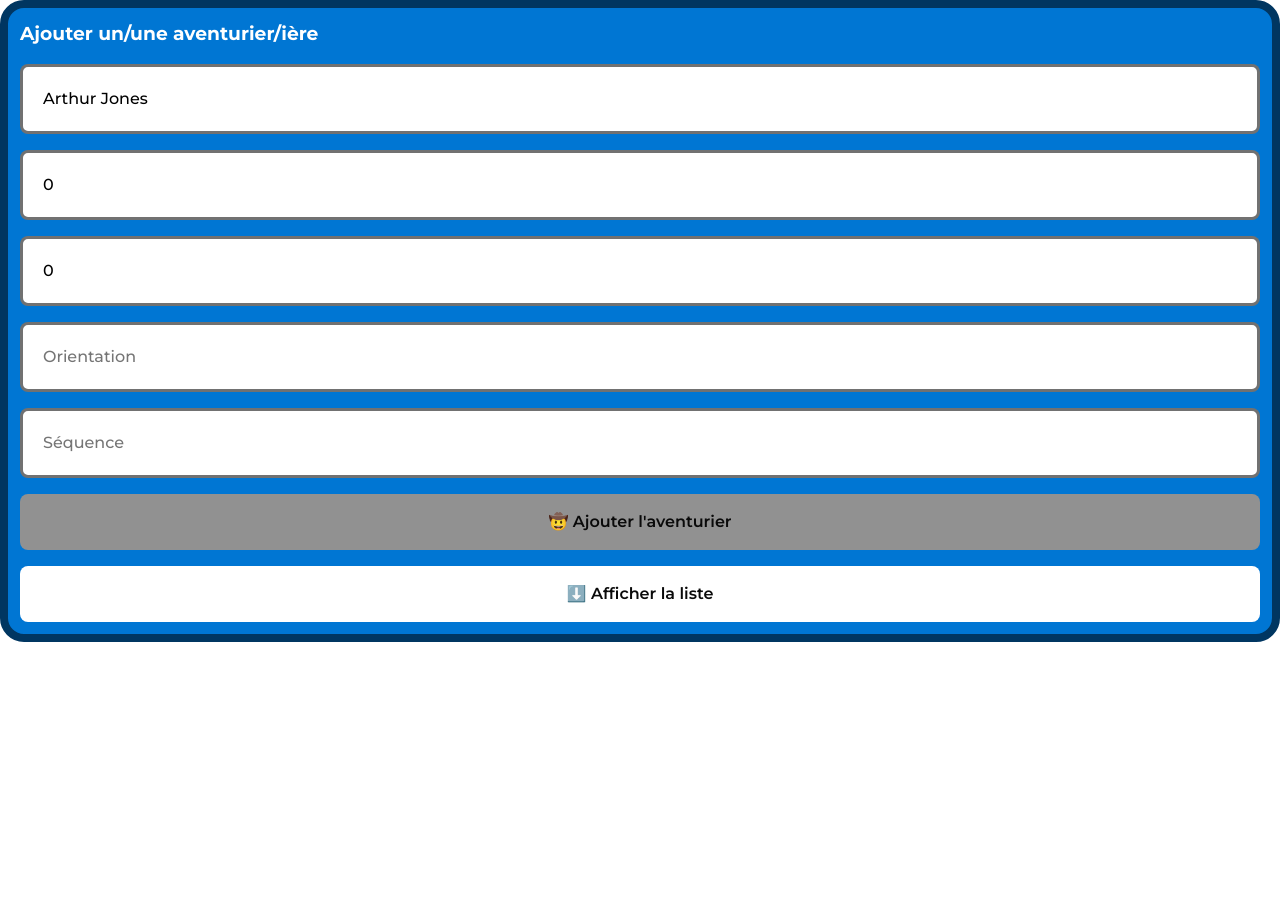
Test: AdventurerForm › -> Bascule l'affichage de la liste des aventuriers.
Click the button with test id "adventurer-toggle-list-button": (640, 594) [20, 566, 1260, 622]
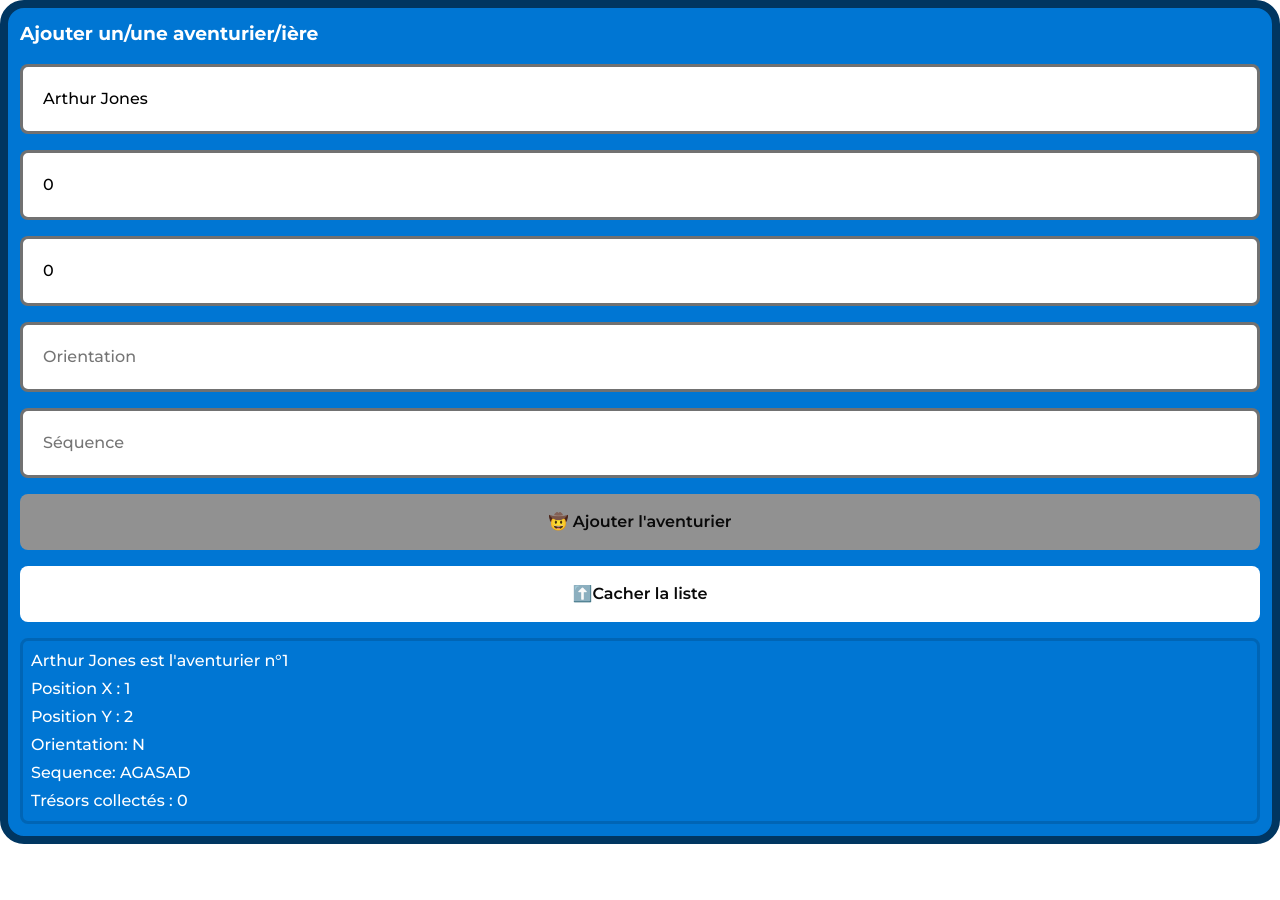
Check: the text "Arthur Jones est l'aventurier n°1" is shown, box [31, 649, 288, 673]
Click the button with test id "adventurer-toggle-list-button": (640, 594) [20, 566, 1260, 622]
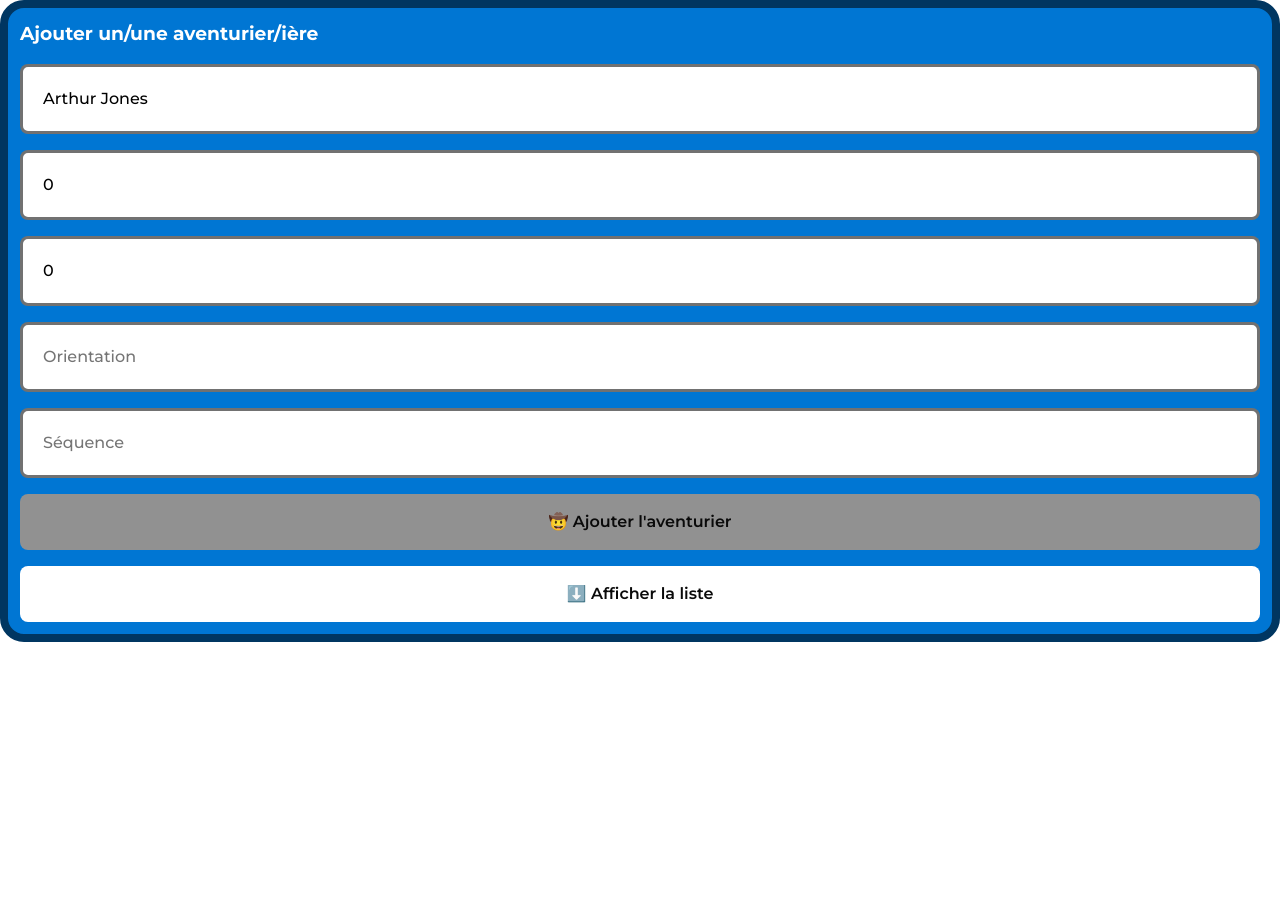
Check: the text "est l'aventurier" is gone
